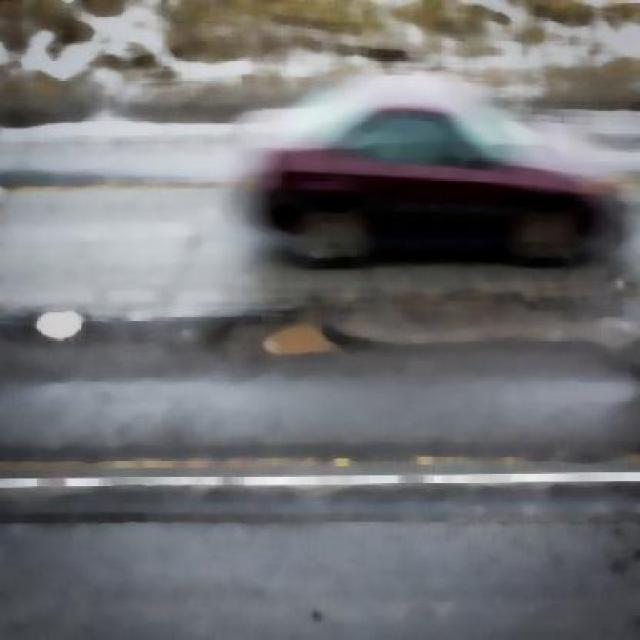Pothole: (260, 313, 342, 361)
